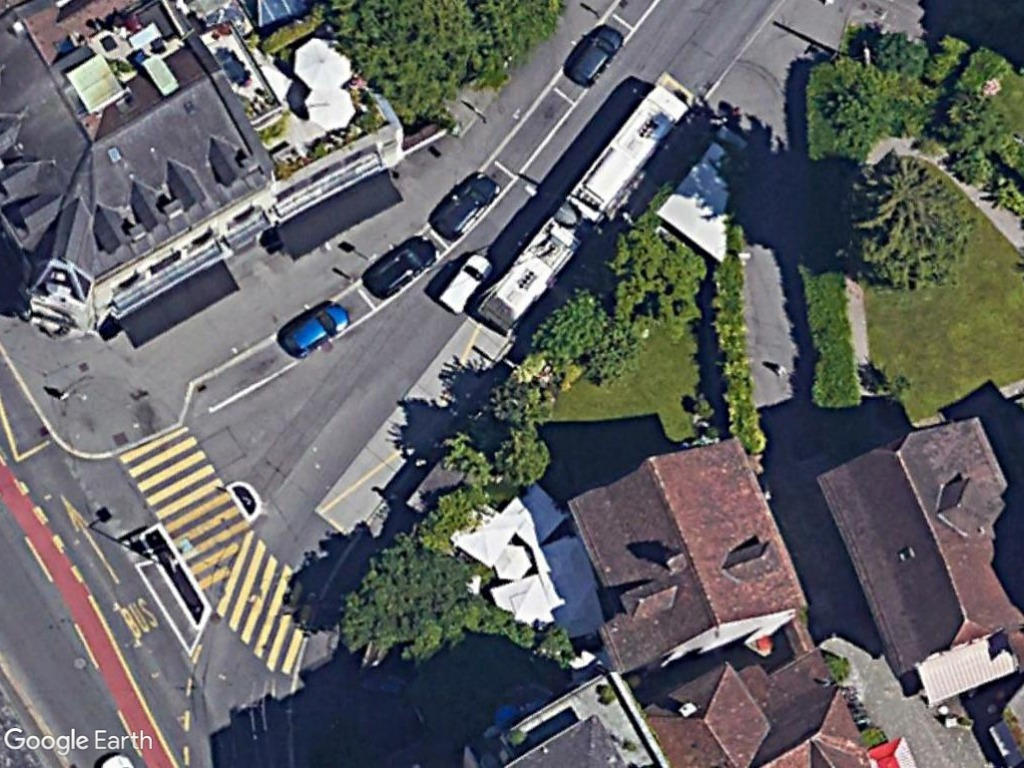bus: (561, 81, 689, 225)
car: (280, 298, 350, 361), (563, 21, 627, 88)
van: (437, 249, 492, 318)
